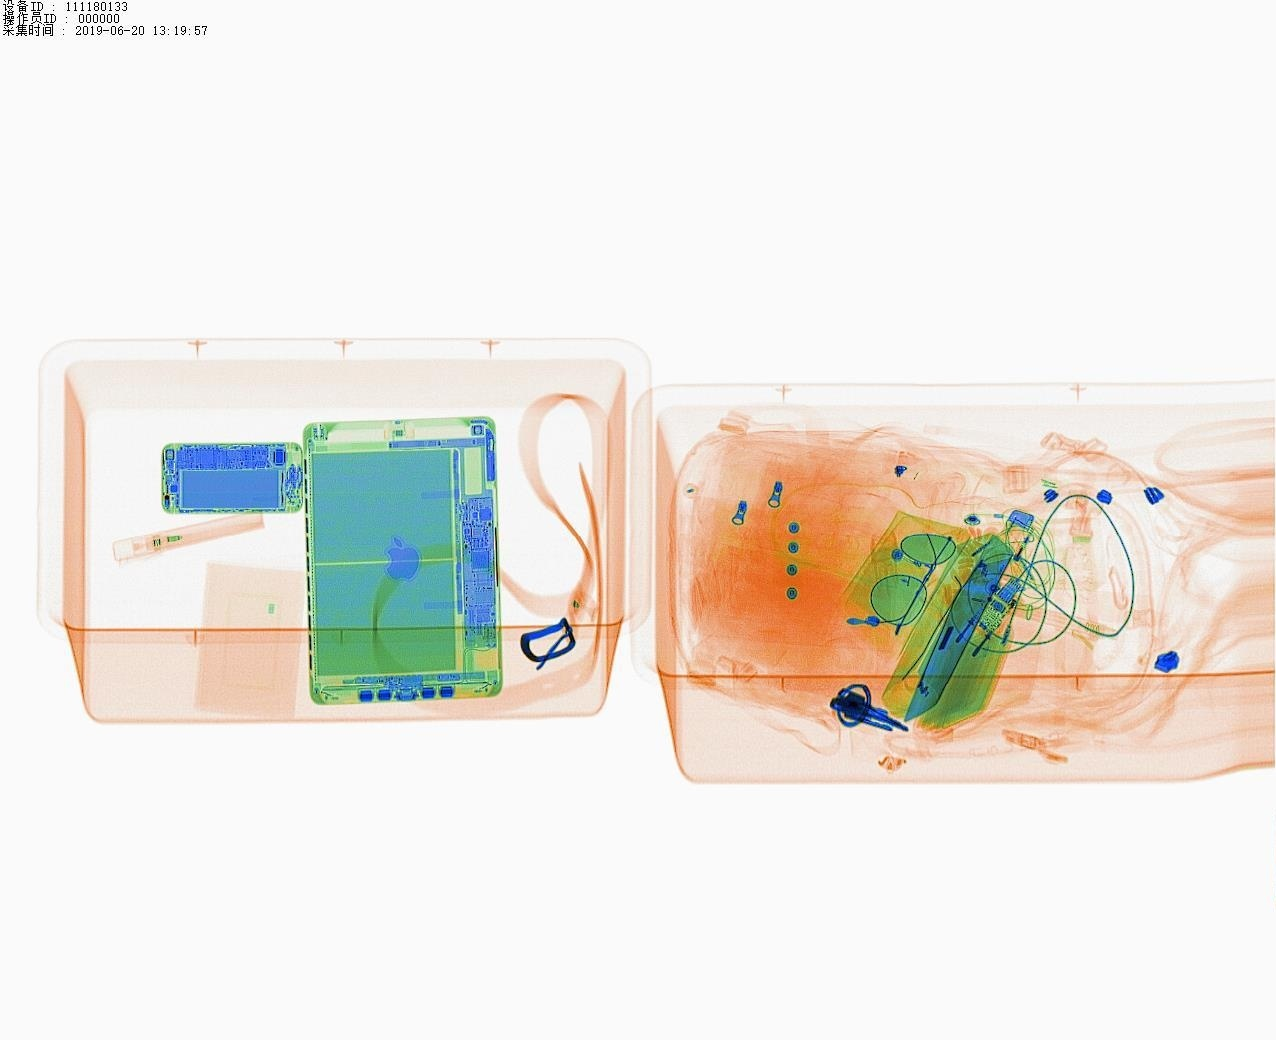NonmetallicFire: (983, 500, 1046, 612)
